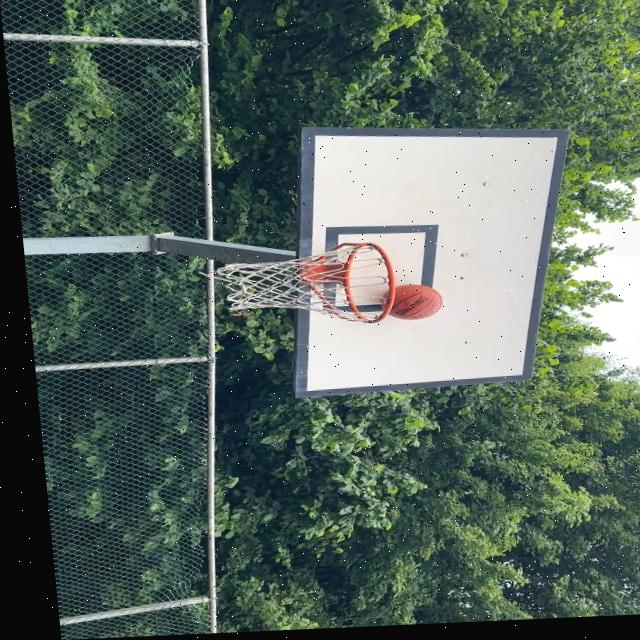rebound_hit: (383, 282, 446, 321)
